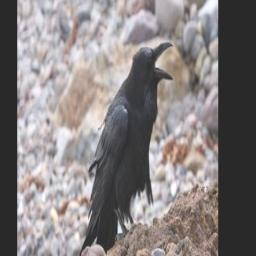Crow: (75, 43, 173, 256)
